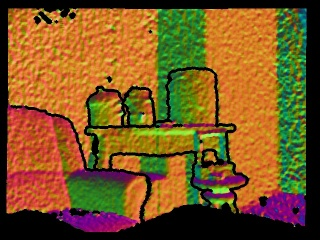station: (189, 128, 235, 181)
